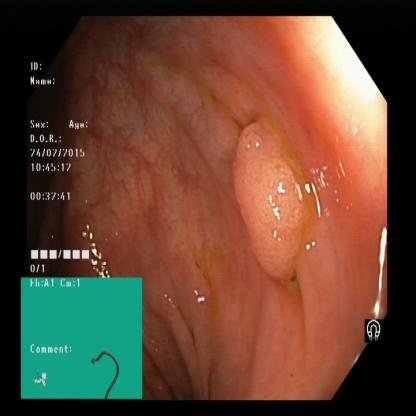Labels: (27, 50, 101, 279), (20, 276, 142, 401)
Polyps: (227, 114, 312, 281)
